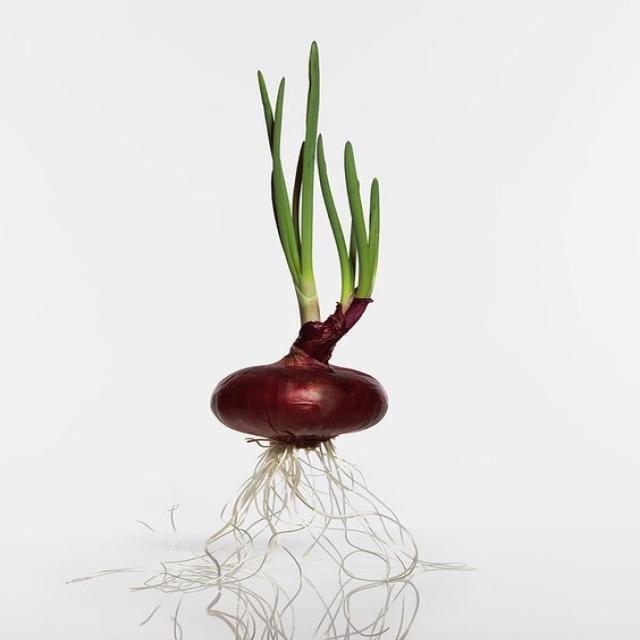sprouting: (160, 36, 450, 563)
